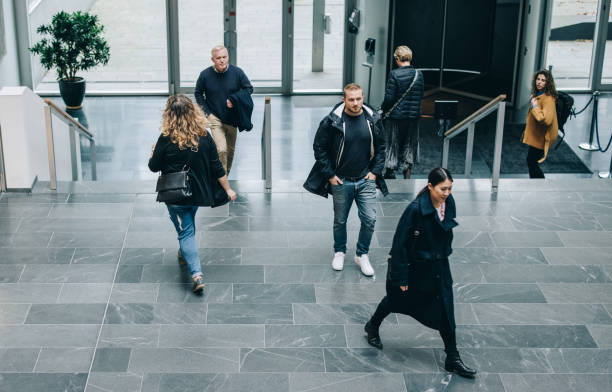without mask: (203, 45, 239, 80), (337, 80, 373, 115), (429, 175, 455, 205), (528, 64, 553, 87)
